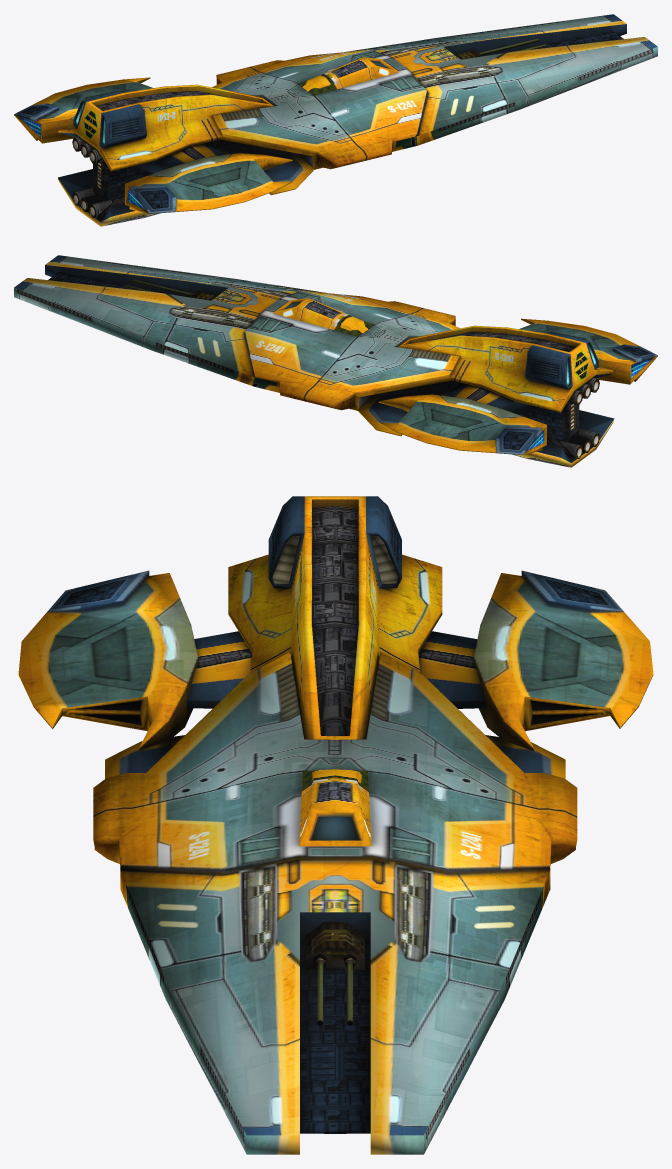
File: spaceship.obj
3 renders of one model, top to bottom at view 1: azimuth 30°, elevation 25°; view 2: azimuth 150°, elevation 25°; view 3: azimuth 270°, elevation 25°, orthographic. The views are drawn at different scales.
Parts seen in each view (by area): view 1: spaceship_01_object_spaceship_01_objectShape; view 2: spaceship_01_object_spaceship_01_objectShape; view 3: spaceship_01_object_spaceship_01_objectShape.
Part boxes in pixels (box(x1,y1,x2,y2)): spaceship_01_object_spaceship_01_objectShape: box(14, 14, 657, 226); spaceship_01_object_spaceship_01_objectShape: box(14, 255, 657, 467); spaceship_01_object_spaceship_01_objectShape: box(18, 496, 653, 1154).
Bounding box in the file's own units: 14.58 × 2.73 × 7.23.
